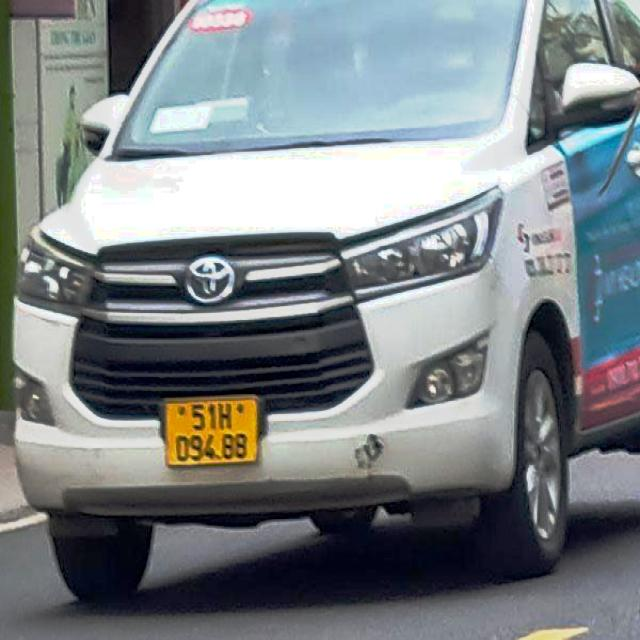license_plate: (166, 395, 262, 465)
